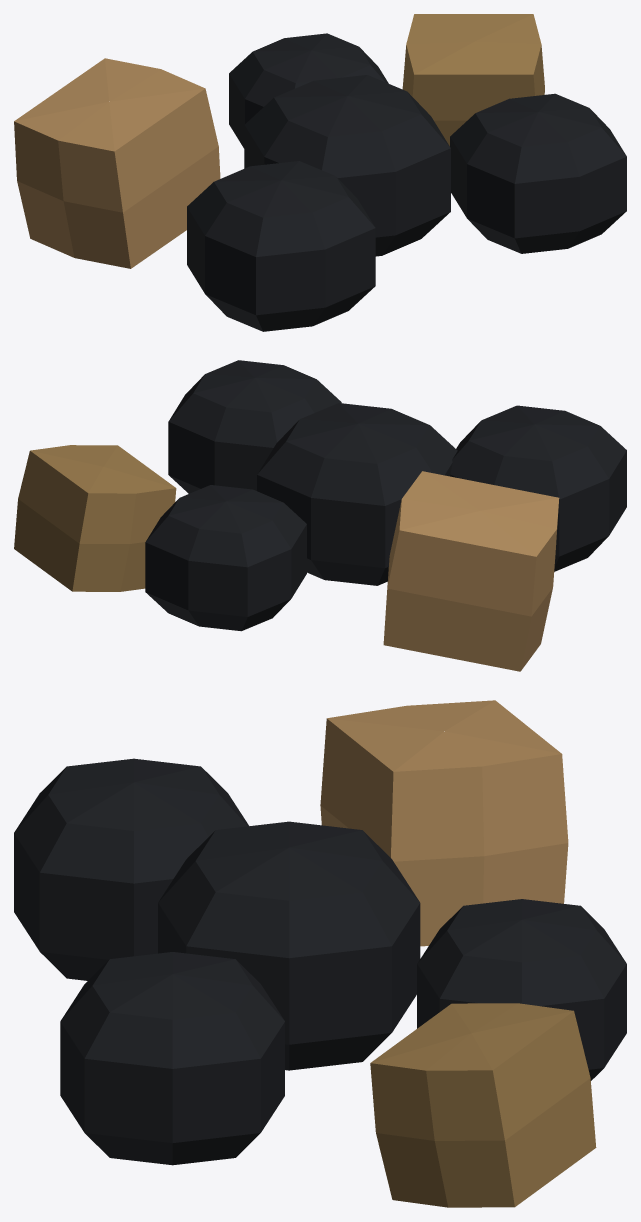
File: s-trash.glb
3 views of the same model, one above another, from view 1: azimuth 30°, elevation 25°; view 2: azimuth 150°, elevation 25°; view 3: azimuth 270°, elevation 25° (orthographic). The views are drawn at different scales.
Visible parts, largest first — view 1: p; view 2: p; view 3: p.
Part boxes in pixels (x1,y1,x2,y2): p: [14, 14, 626, 331]; p: [14, 360, 626, 671]; p: [14, 700, 626, 1207].
Bounding box in the file's own units: 2.13 × 0.598 × 1.58.
